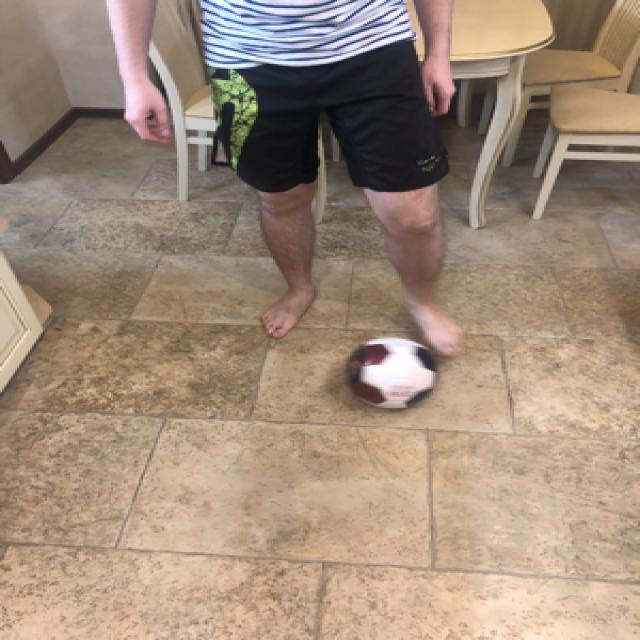soccer_ball: (340, 331, 438, 408)
